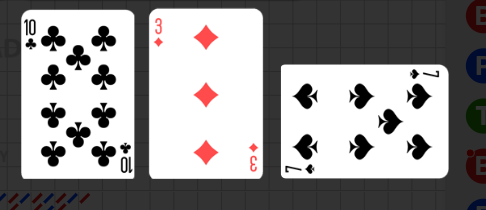10C: (24, 18, 39, 53)
3D: (117, 140, 133, 175)
7S: (407, 68, 441, 81)
